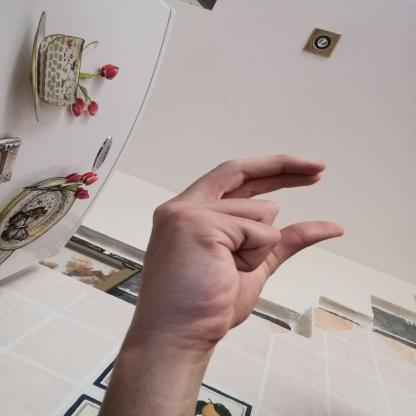DHELL: (122, 145, 354, 351)
